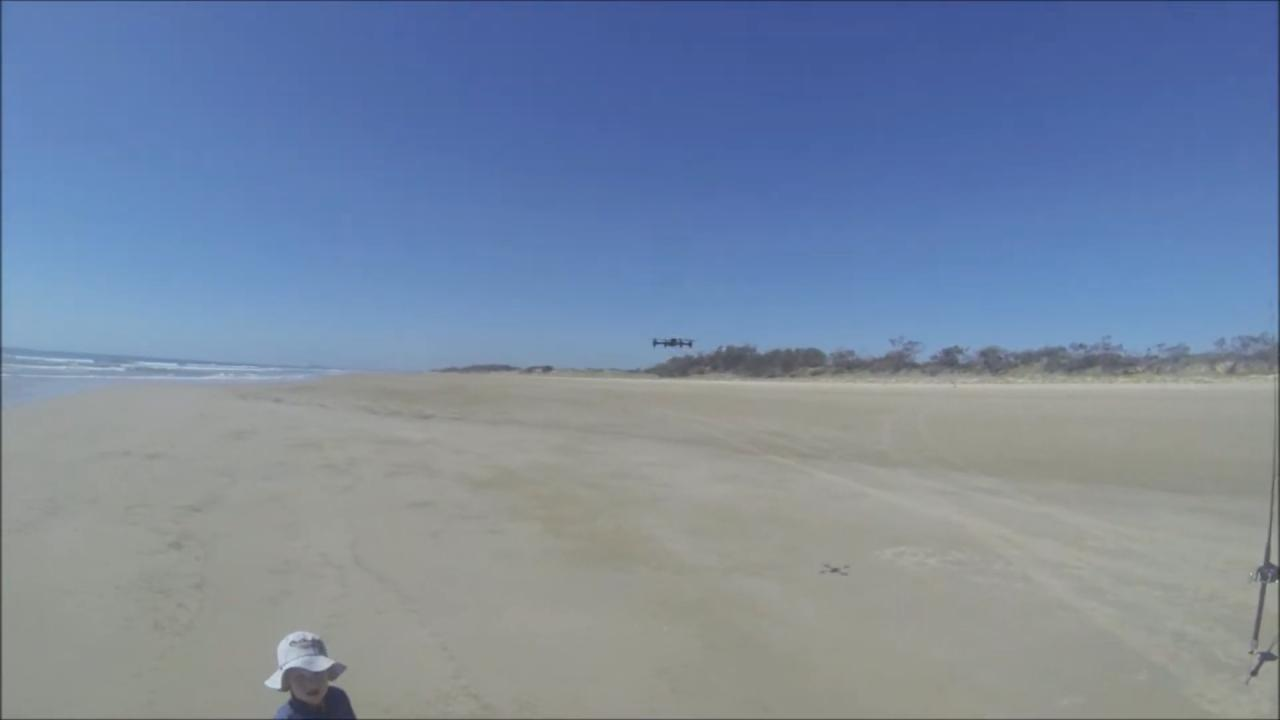Drone: (640, 328, 704, 359)
